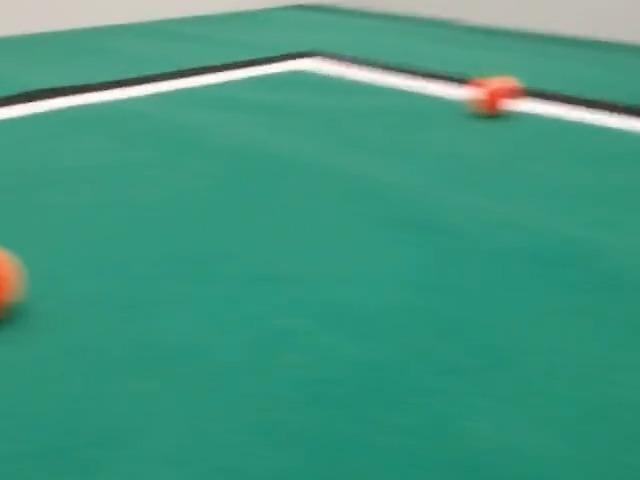Ball: (468, 76, 523, 116), (0, 248, 25, 319)
